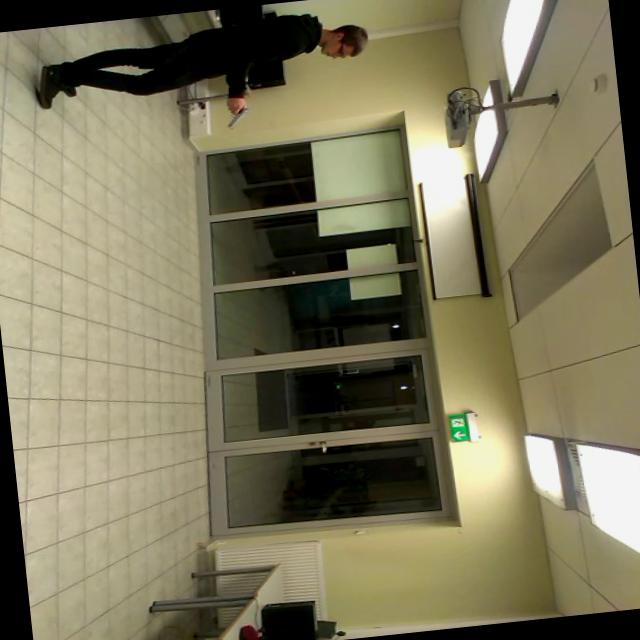handgun: (208, 99, 262, 138)
